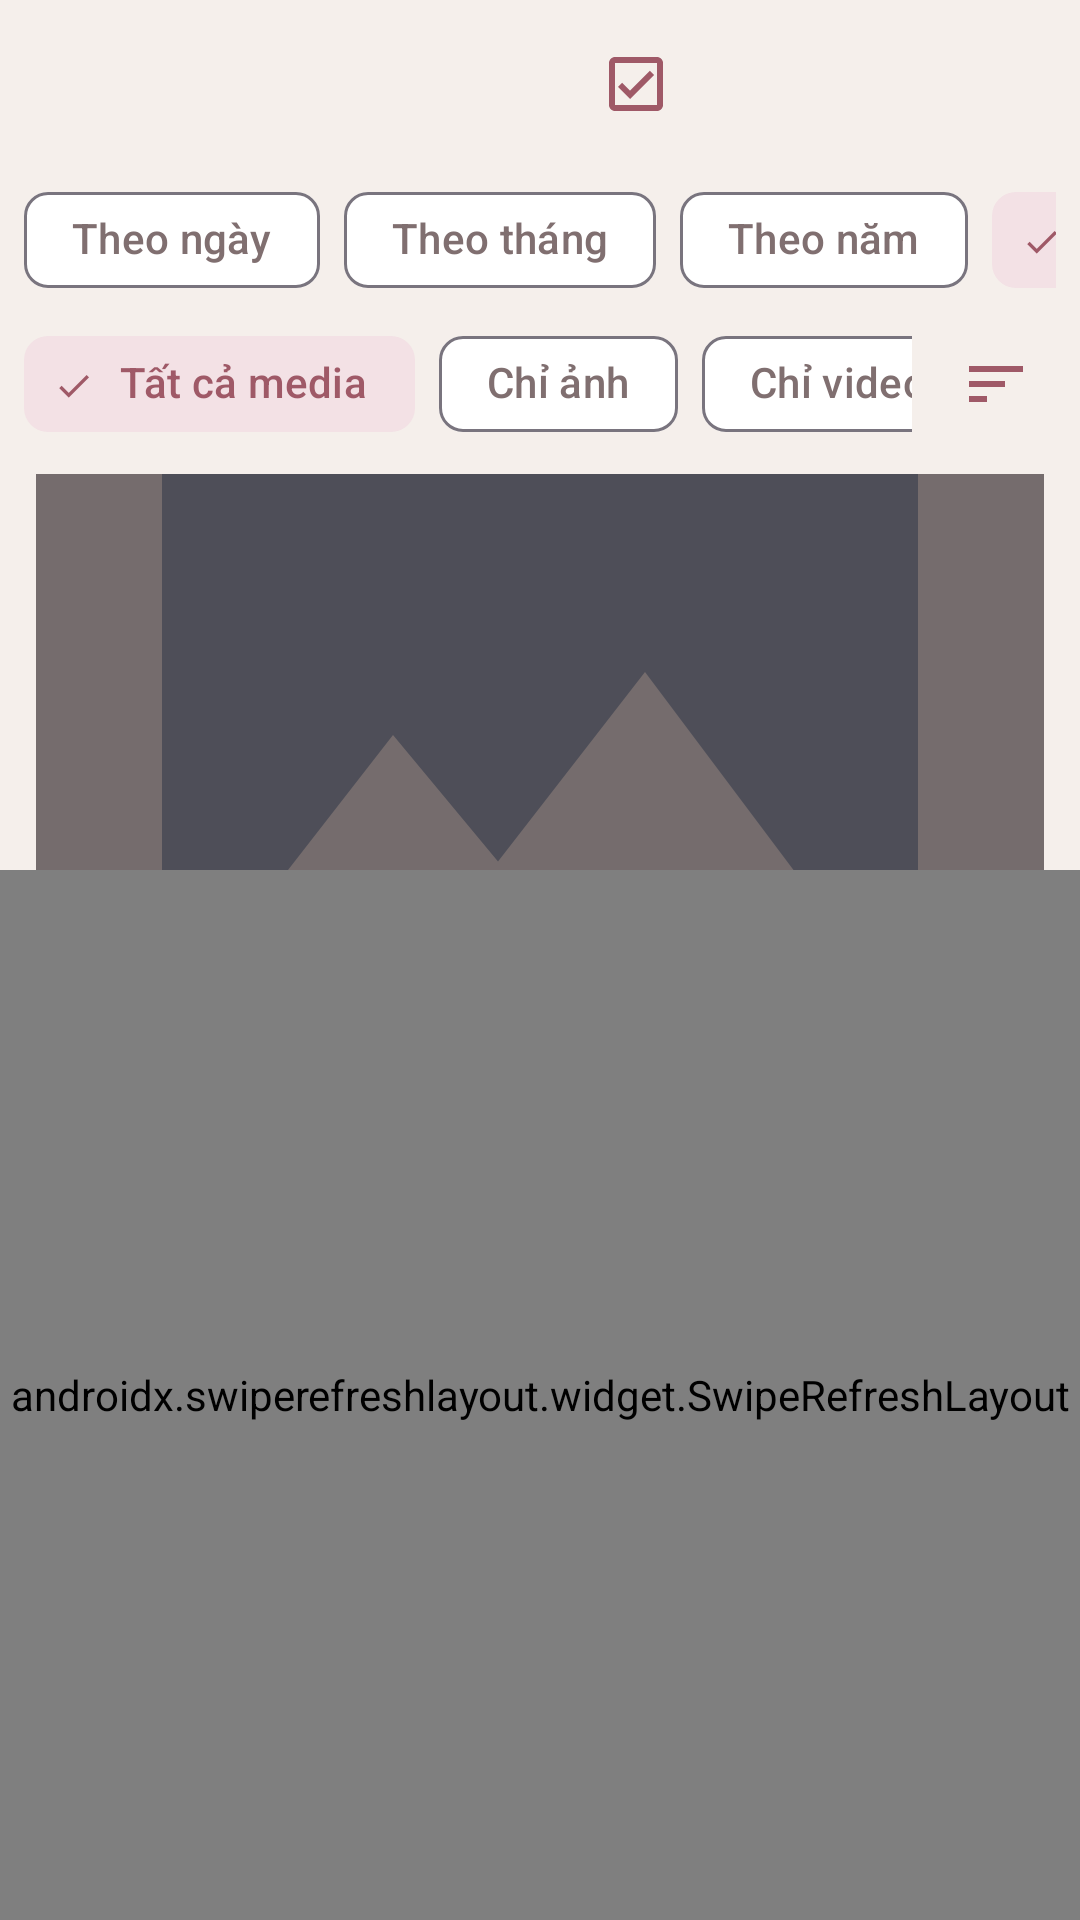

Named icons in this screenshot (1080w x 1920h) and their centers, (x,y):
Chọn media: (636,84)
Sắp xếp theo: (996,384)
